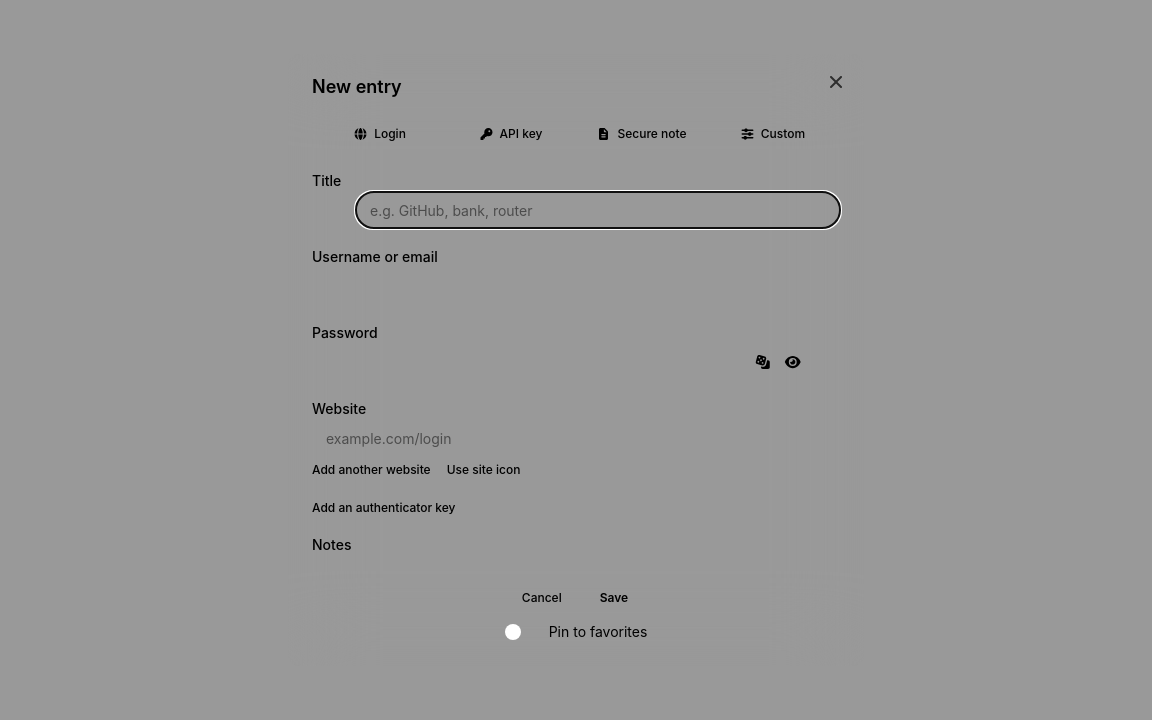
Test: VaultEntryDialog: new entries › shows why saving failed and stays open
Type "GitHub" into the field labelled "Title" at [598, 210], box [356,192,840,228]
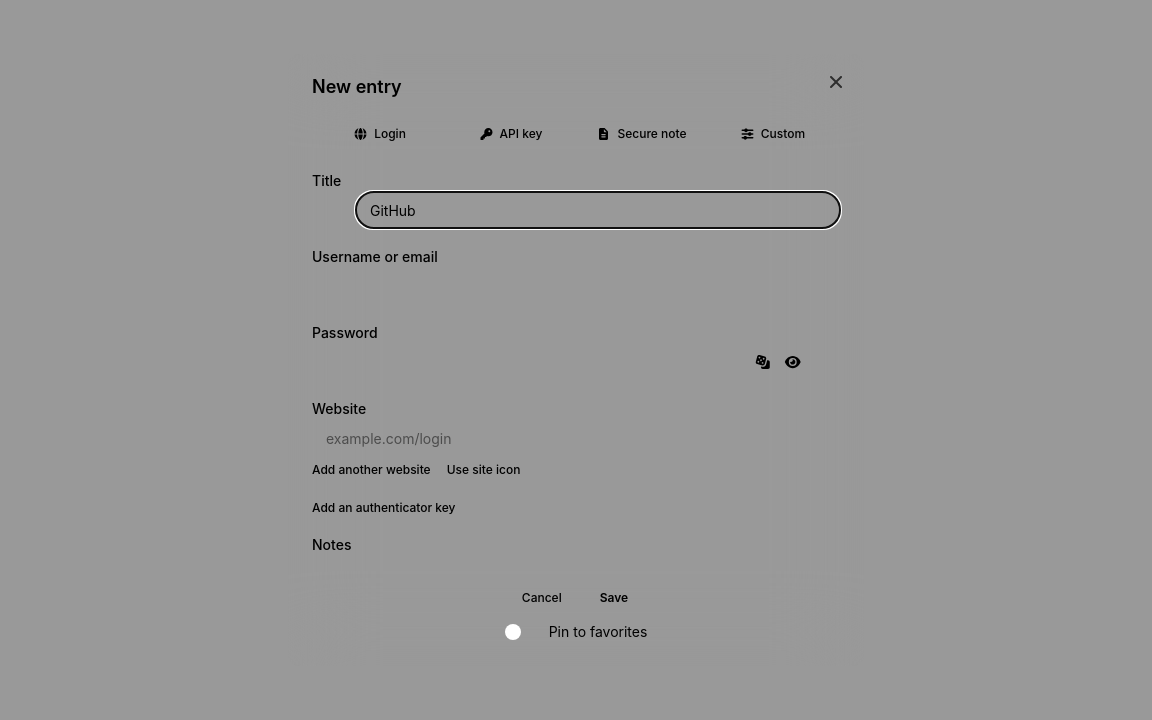
Click the button "Save" at [614, 598], box [584,582,644,614]
(page scrolled)
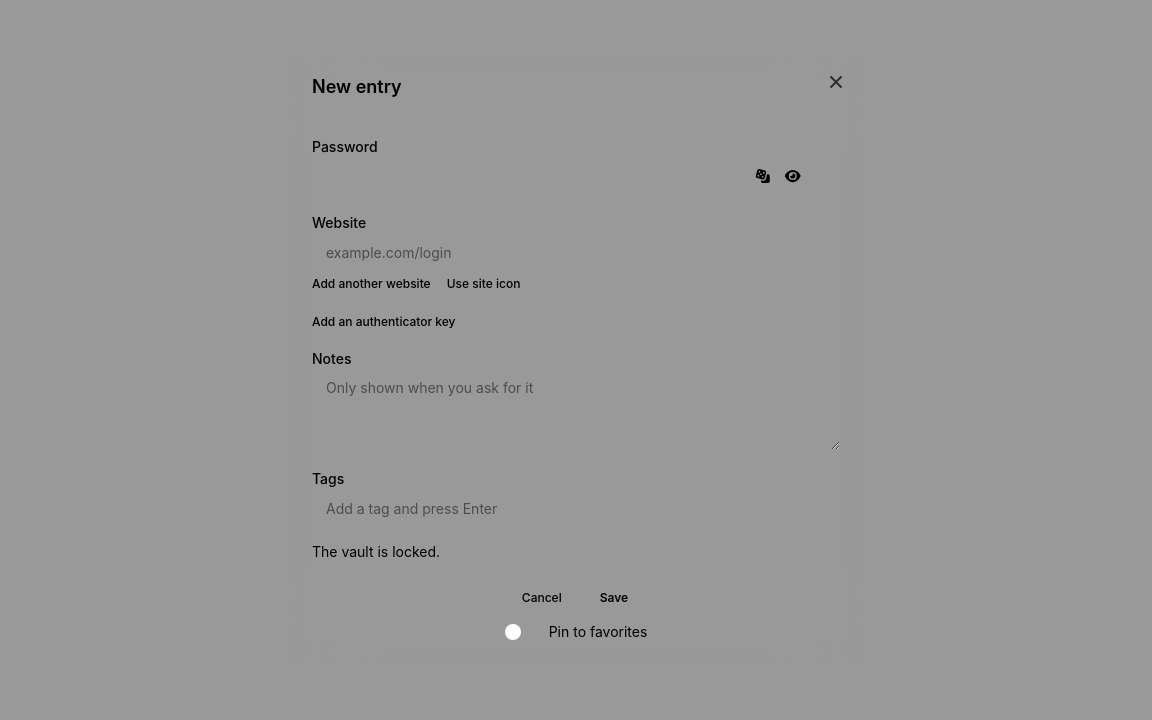
Result: the message reads "The vault is locked." at [312,543,440,560]
